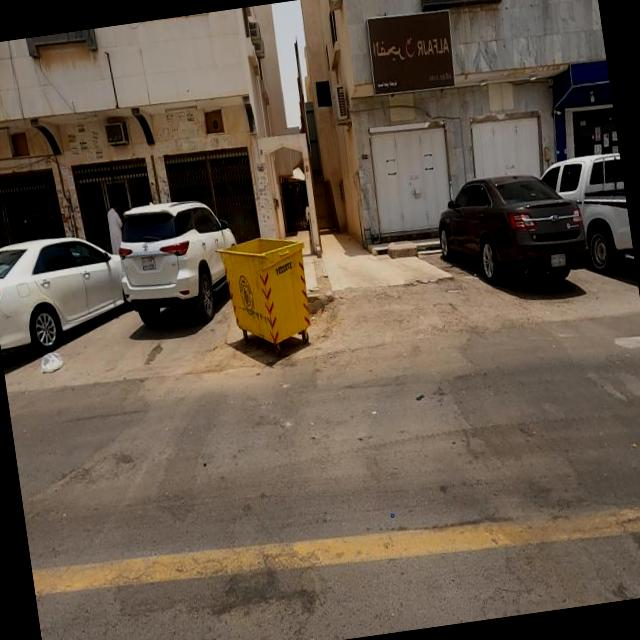debris: (11, 316, 97, 413)
